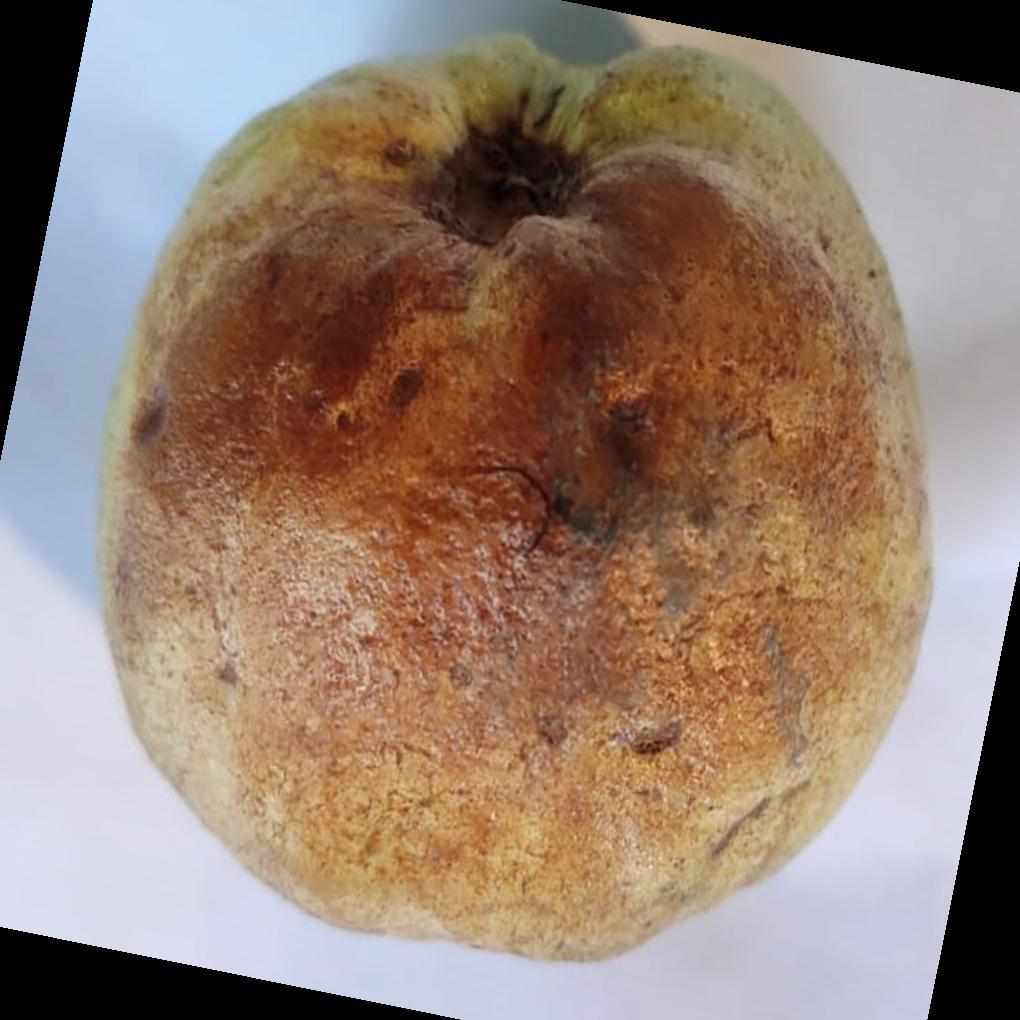FreshOrange: (93, 32, 936, 969)
